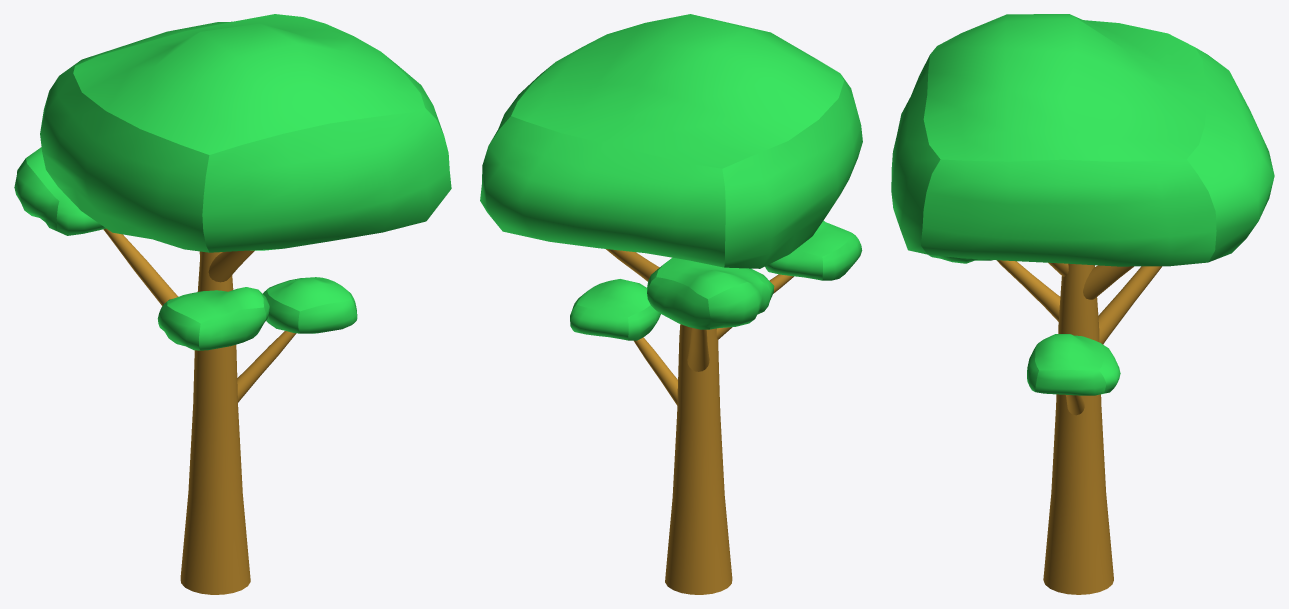
Rendered from basic tree 1.fbx.
3 renders of one model, left to right at view 1: azimuth 30°, elevation 25°; view 2: azimuth 150°, elevation 25°; view 3: azimuth 270°, elevation 25°, orthographic. The views are drawn at different scales.
Visible parts, largest first — view 1: Leaves_main, Tree_Body, leaves_02, leaves_01, leaves_03, branch03, branch05, branch02; view 2: Leaves_main, Tree_Body, leaves_03, leaves_01, leaves_02, branch05, branch03, branch06; view 3: Leaves_main, Tree_Body, leaves_01, branch03, branch07, branch06.
Boxes of the visible parts, x1,y1,x2,y2 form: Leaves_main: (40, 14, 451, 252); Tree_Body: (180, 251, 250, 594); leaves_02: (157, 287, 269, 350); leaves_01: (263, 277, 357, 333); leaves_03: (14, 147, 105, 235); branch03: (103, 228, 178, 305); branch05: (237, 331, 296, 402); branch02: (208, 250, 254, 282); Leaves_main: (480, 14, 862, 268); Tree_Body: (665, 324, 732, 594); leaves_03: (647, 257, 774, 329); leaves_01: (570, 279, 660, 340); leaves_02: (765, 220, 862, 280); branch05: (634, 337, 677, 405); branch03: (687, 328, 709, 371); branch06: (606, 249, 659, 281); Leaves_main: (891, 14, 1274, 266); Tree_Body: (1043, 263, 1113, 594); leaves_01: (1027, 334, 1120, 395); branch03: (1098, 266, 1161, 344); branch07: (997, 260, 1060, 321); branch06: (1083, 265, 1133, 299).
Size of the model in its own units: 20.65 by 34.3 by 21.52.
